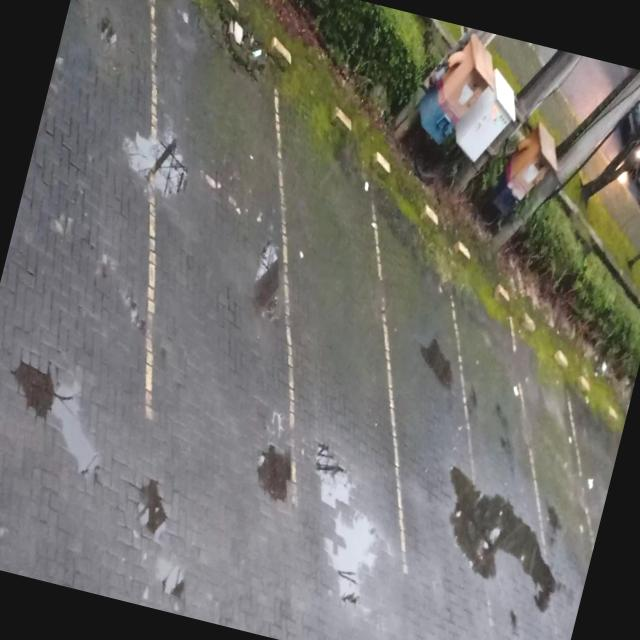free: (69, 0, 365, 481), (276, 241, 602, 628), (206, 104, 466, 552), (0, 0, 199, 440), (312, 206, 537, 595)
